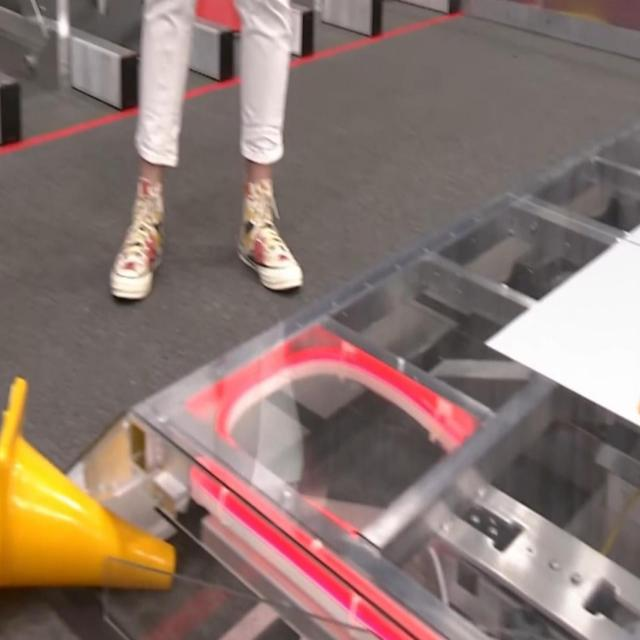frc_cone: (0, 371, 174, 595)
